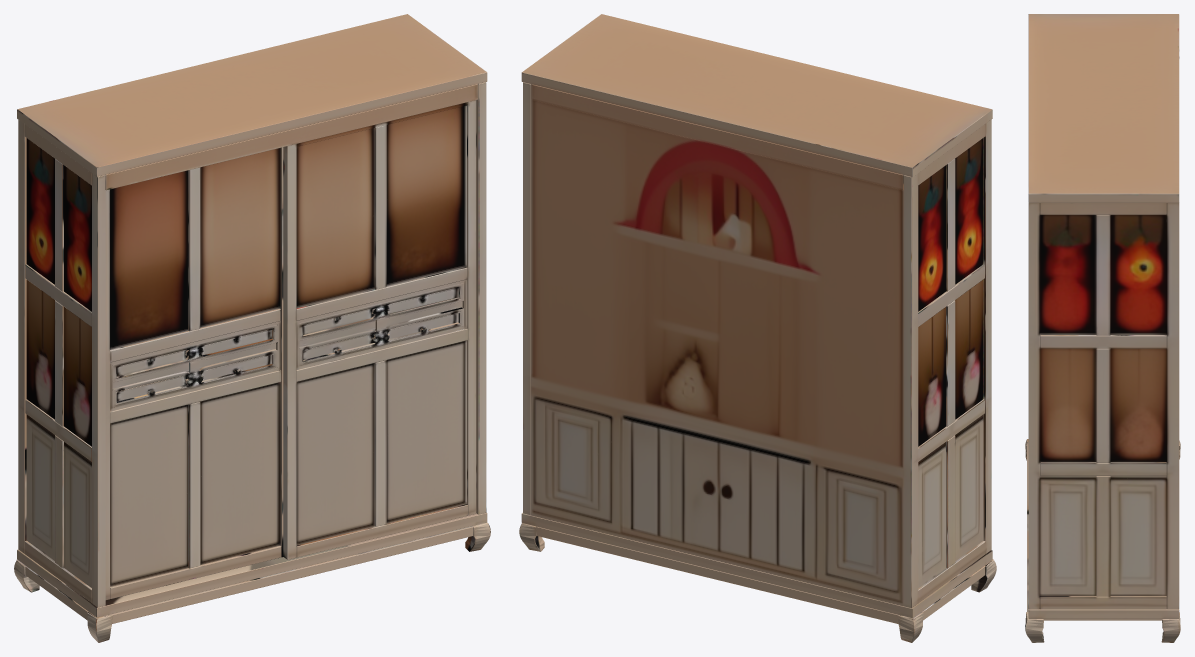
File: edited_mesh.glb
The picture shows the model from 3 angles, left to right: view 1: azimuth 30°, elevation 25°; view 2: azimuth 150°, elevation 25°; view 3: azimuth 270°, elevation 25°; orthographic projection. The views are drawn at different scales.
Visible parts, largest first — view 1: normalized_model.obj; view 2: normalized_model.obj; view 3: normalized_model.obj.
Part boxes in pixels (box(x1,y1,x2,y2)): normalized_model.obj: box(14, 14, 490, 642); normalized_model.obj: box(519, 14, 996, 642); normalized_model.obj: box(1025, 14, 1180, 642).
Size of the model in its own units: 1.21 by 1.4 by 0.4358.
1 material, 1 textured.
